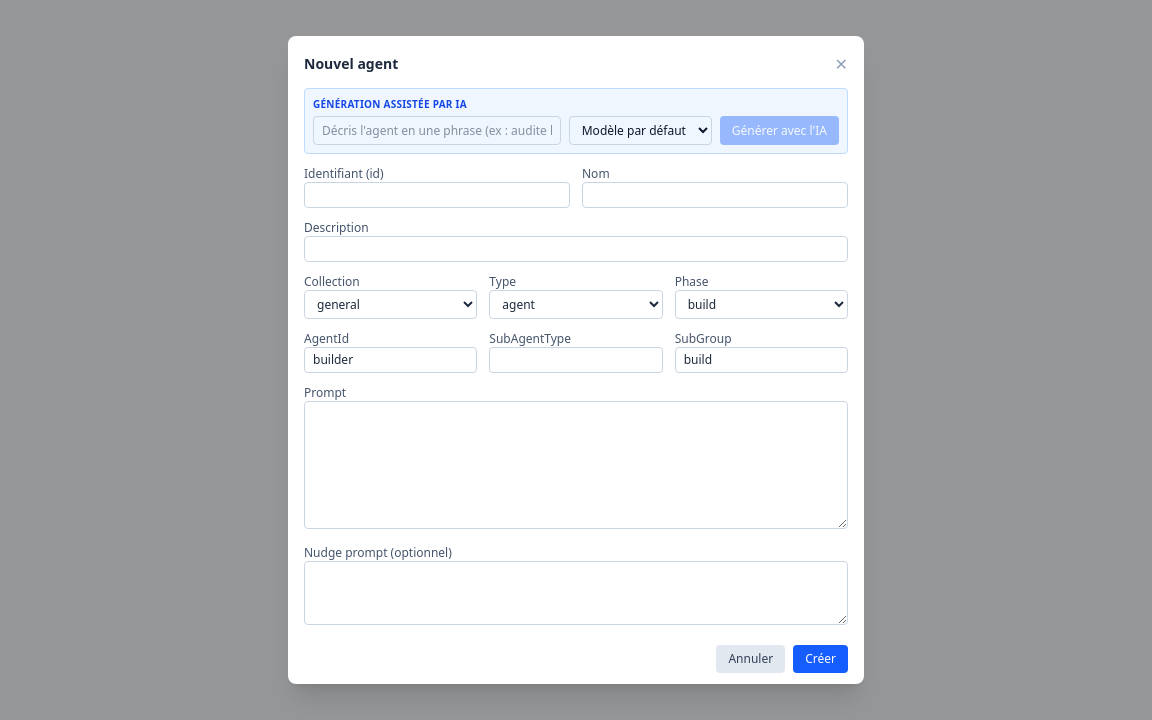
Scenario: AgentEditor › Générer avec l'IA pré-remplit le formulaire
The width and height of the screenshot is (1152, 720).
Replace the text in the field with placeholder "Décris l'agent" with "Audit RGPD" at (437, 130), box left=313, top=116, right=561, bottom=145
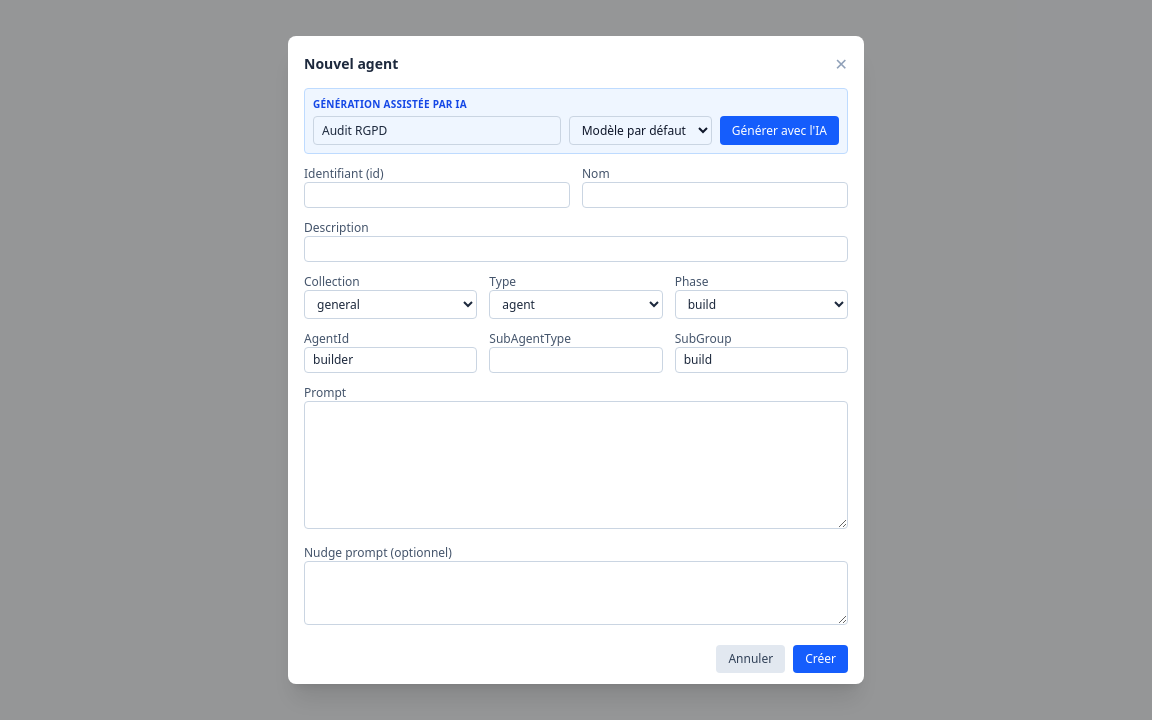
Click the button "Générer avec l'IA" at (779, 130), box left=720, top=116, right=839, bottom=145
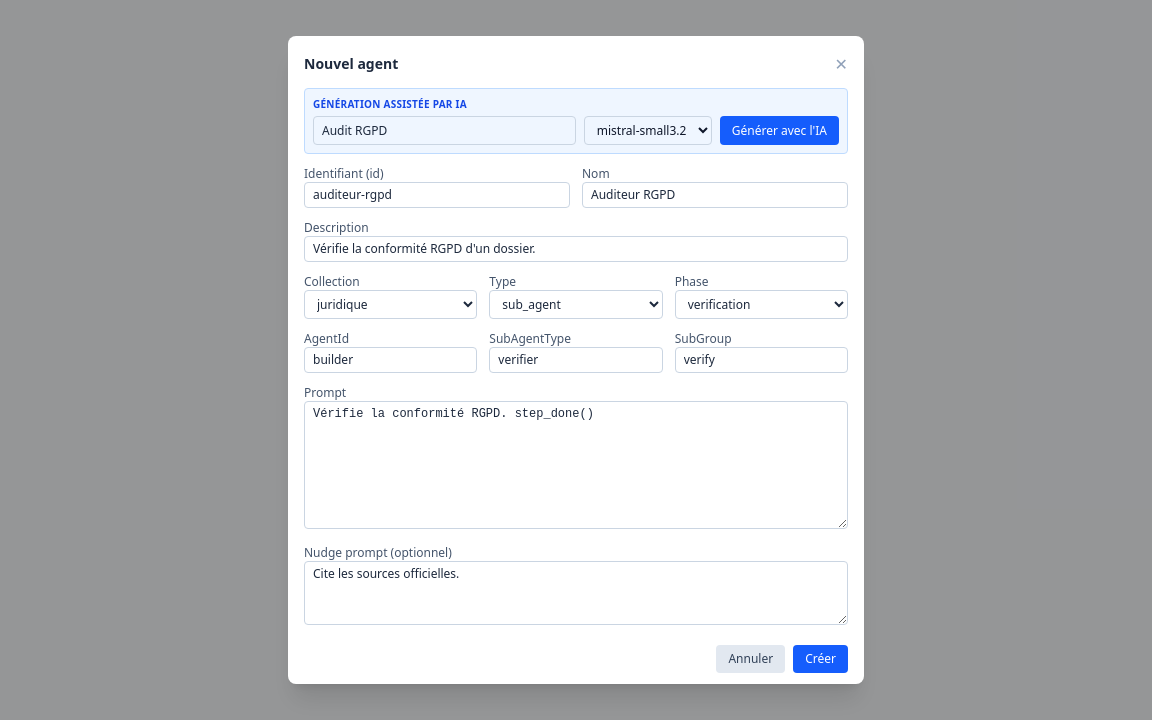
Now the field showing "auditeur-rgpd" is shown, box left=304, top=182, right=570, bottom=208
Now the field showing "Auditeur RGPD" is shown, box left=582, top=182, right=848, bottom=208
Now the text box labelled "Prompt" holds "Vérifie la conformité RGPD. step_done()", box left=304, top=401, right=848, bottom=529
